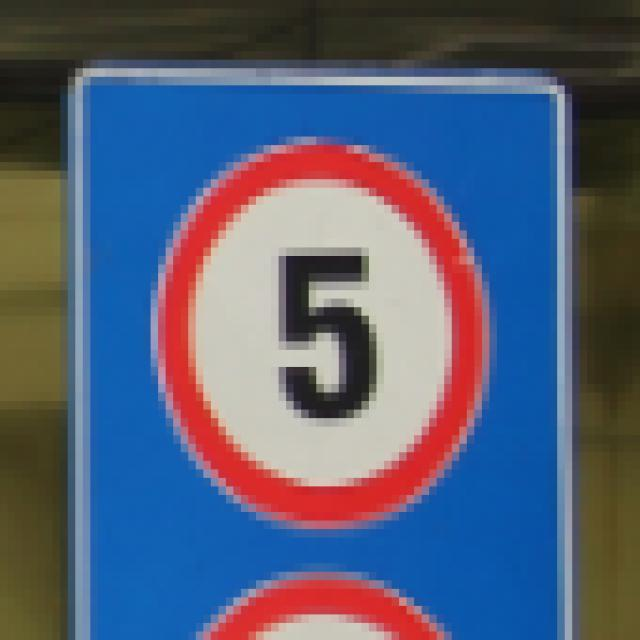Speed: (136, 107, 541, 552)
